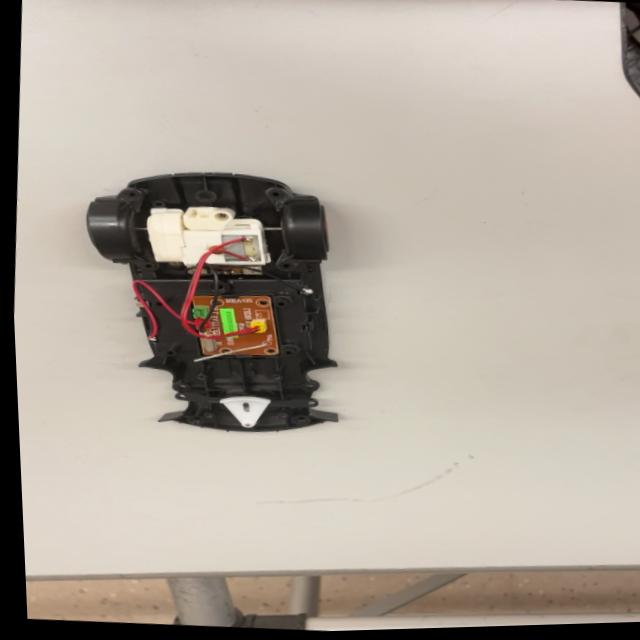Chassis: (71, 166, 335, 447)
